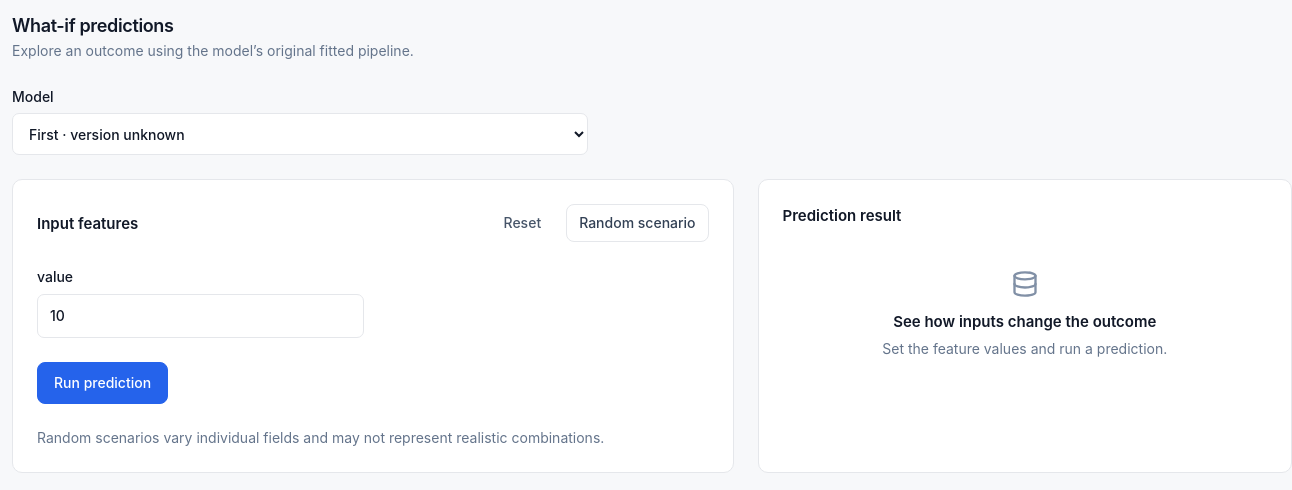
Test case: Cleaning and training › resets prediction inputs and output when the model changes
The image size is (1292, 490).
Expected: the number field labelled "value" is shown, [37,294,364,338]
Click the button "Run prediction" at (103, 383), box [37,362,168,404]
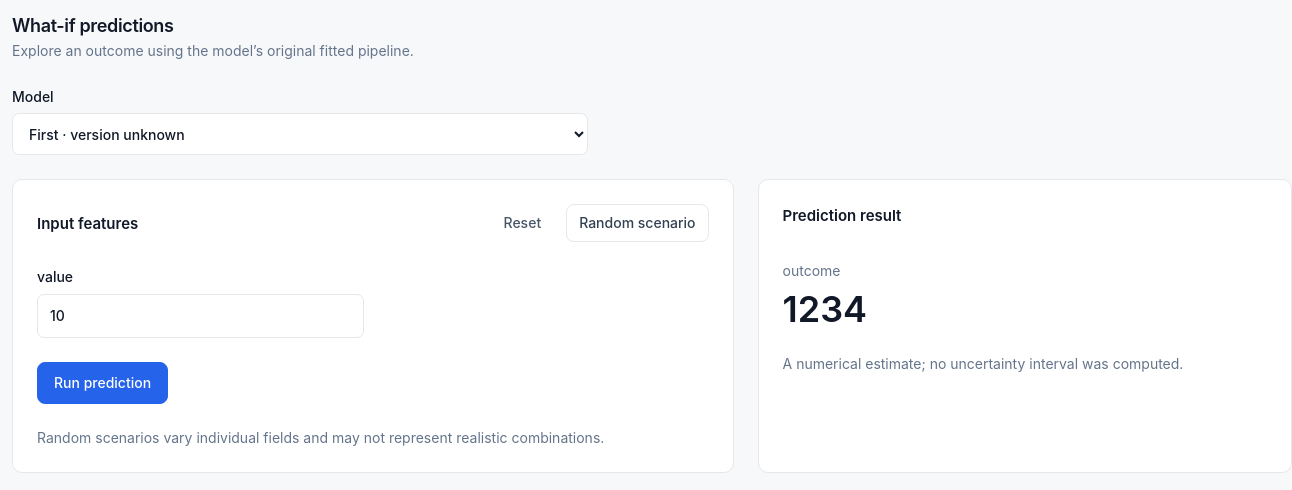
Result: the text "1234" is shown at [782,287,867,331]
Select "Second · version unknown" in the dropdown labelled "Model" at (300, 134), box [12,113,588,155]
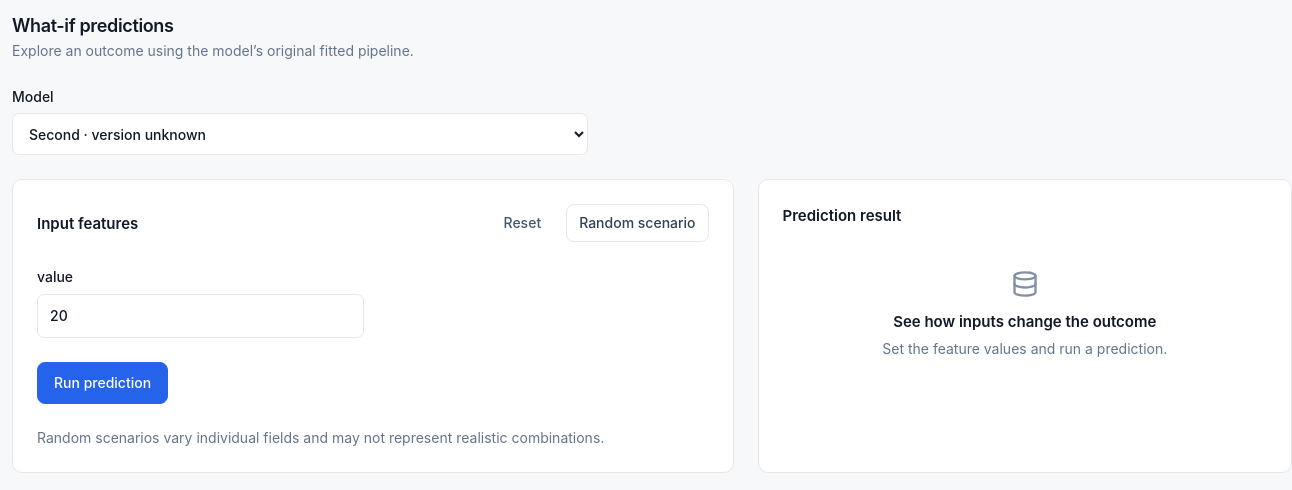
Result: the number field labelled "value" holds "20" at [37,294,364,338]
Result: the text "1234" is gone
